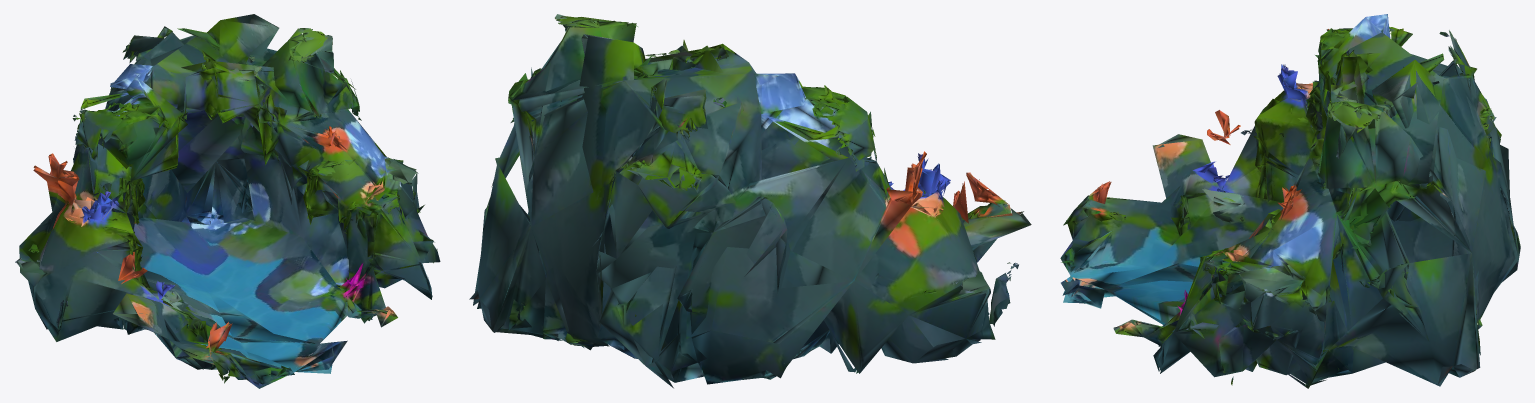
Rendered from lair_water.glb.
3 renders of one model, left to right at view 1: azimuth 30°, elevation 25°; view 2: azimuth 150°, elevation 25°; view 3: azimuth 270°, elevation 25°, orthographic. The views are drawn at different scales.
Parts seen in each view (by area): view 1: Mesh_0; view 2: Mesh_0; view 3: Mesh_0.
Part boxes in pixels (<box>): Mesh_0: <box>15,14,440,388</box>; Mesh_0: <box>469,14,1031,388</box>; Mesh_0: <box>1060,14,1520,388</box>.
Bounding box in the file's own units: 3.56 × 2.1 × 3.27.
1 material, 1 textured.
